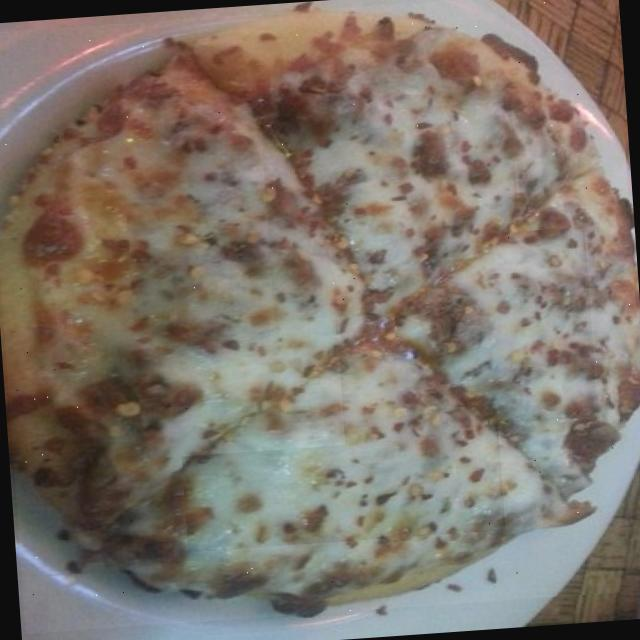cheese: (120, 122, 344, 458), (175, 346, 504, 551), (260, 99, 524, 320), (388, 226, 596, 428)
pizza: (0, 9, 640, 613)
